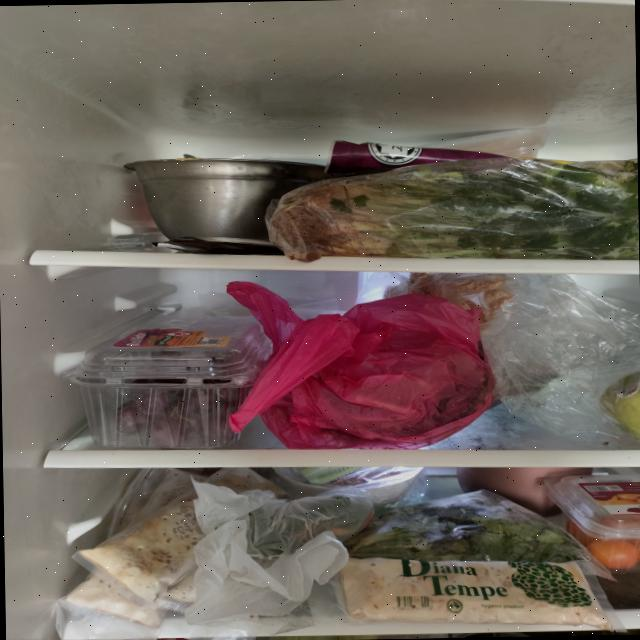grape: (114, 348, 252, 448)
leafy_greens: (266, 154, 639, 266), (344, 486, 589, 566)
tempeh: (64, 466, 288, 628), (340, 552, 613, 636)
unknown_bag: (222, 274, 496, 452)
